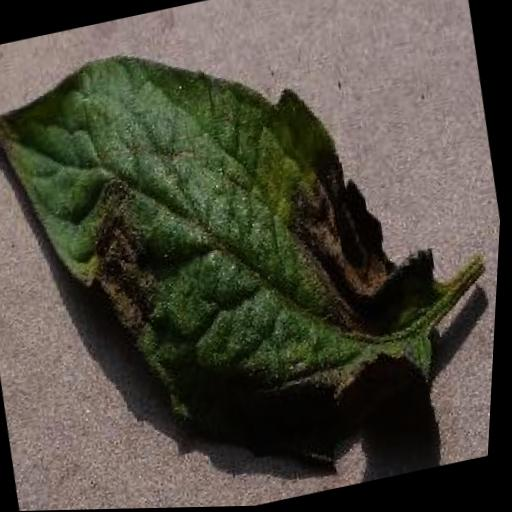Late Blight: (0, 0, 469, 479)
